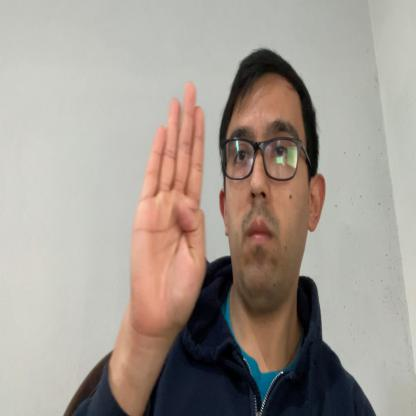B: (130, 79, 206, 338)
